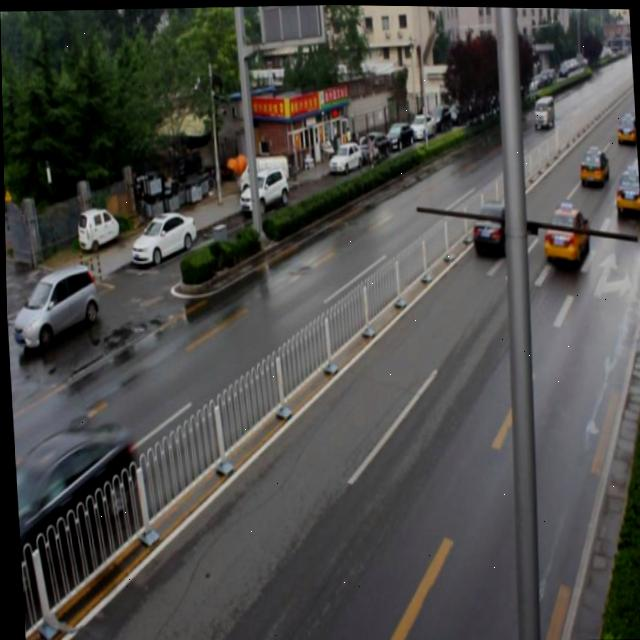car: (11, 423, 136, 582), (539, 202, 586, 263), (468, 196, 518, 250), (575, 141, 607, 184), (612, 165, 640, 214)
